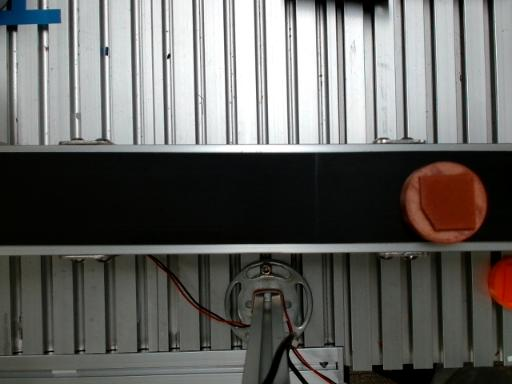Brown_Waper: (401, 162, 487, 243)
Not_Square: (419, 173, 477, 231)
